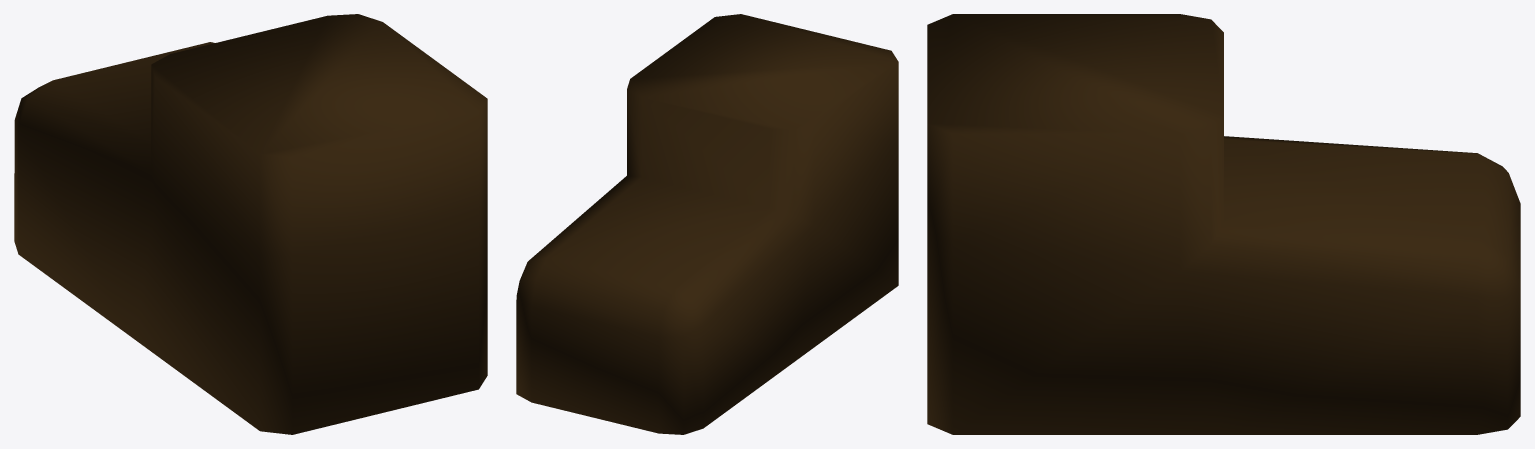
Rendered from Foot_R.obj.
The picture shows the model from 3 angles, left to right: view 1: azimuth 30°, elevation 25°; view 2: azimuth 150°, elevation 25°; view 3: azimuth 270°, elevation 25°; orthographic projection. The views are drawn at different scales.
Parts seen in each view (by area): view 1: P_Leg_R; view 2: P_Leg_R; view 3: P_Leg_R.
Part boxes in pixels (left/top/right/bottom): P_Leg_R: left=14, top=14, right=487, bottom=434; P_Leg_R: left=516, top=14, right=898, bottom=434; P_Leg_R: left=927, top=14, right=1520, bottom=434.
Size of the model in its own units: 0.24 by 0.2794 by 0.5.
Materials: 1 (1 with a texture image).
